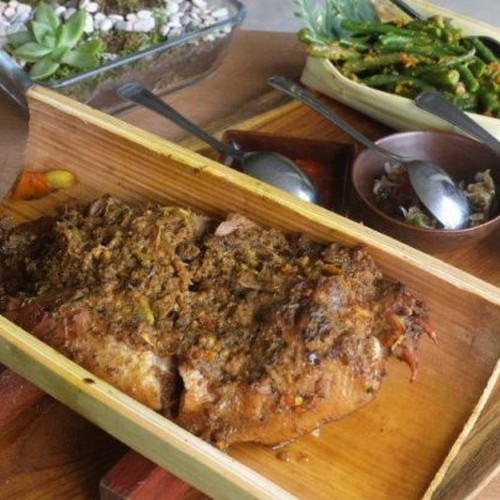bebek timbungan: (10, 195, 417, 435)
